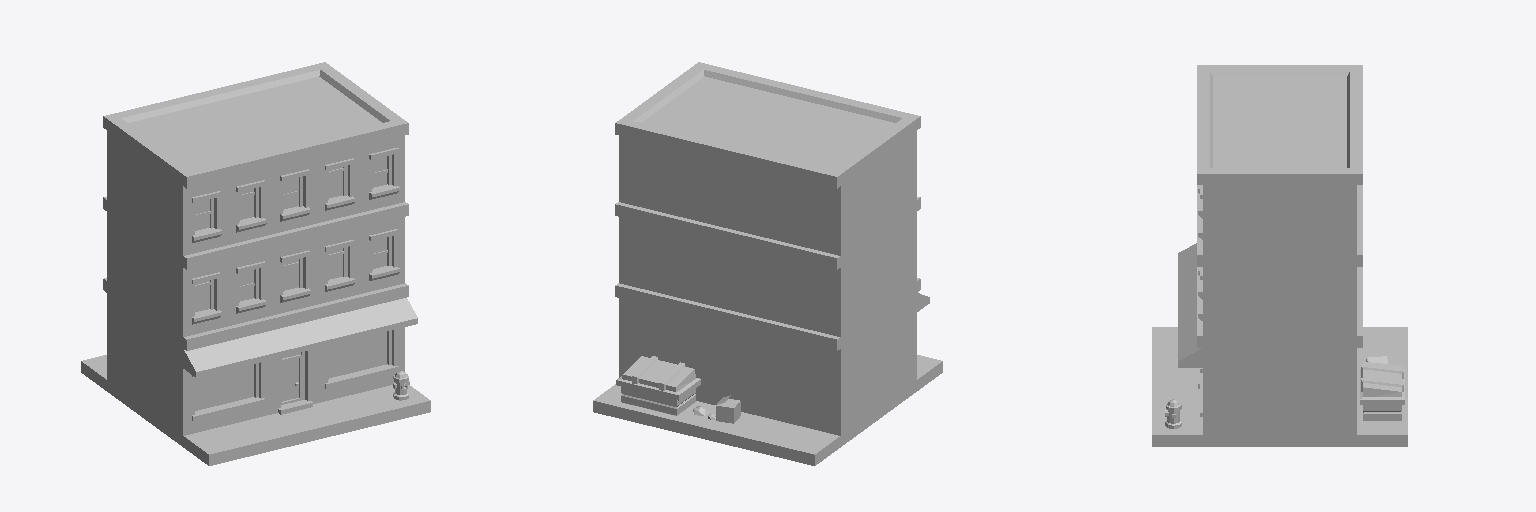
File: building_E.obj
3 renders of one model, left to right at view 1: azimuth 30°, elevation 25°; view 2: azimuth 150°, elevation 25°; view 3: azimuth 270°, elevation 25°, orthographic.
Parts seen in each view (by area): view 1: building_E_Cube.934_texture_city; view 2: building_E_Cube.934_texture_city; view 3: building_E_Cube.934_texture_city.
Part boxes in pixels (x1,y1,x2,y2): building_E_Cube.934_texture_city: (81, 62, 430, 465); building_E_Cube.934_texture_city: (593, 62, 942, 465); building_E_Cube.934_texture_city: (1152, 65, 1407, 446).
Bounding box in the file's own units: 10.03 × 11.75 × 10.